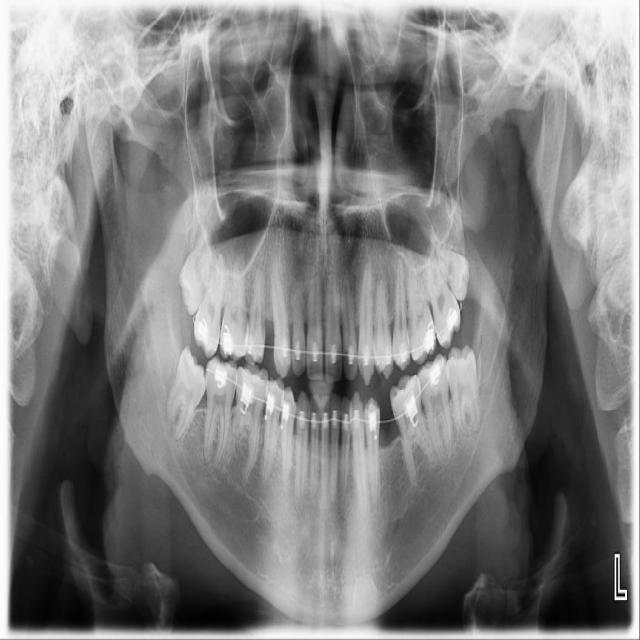3M ESPE Implant: (172, 221, 221, 317)
73: (602, 584, 610, 598)
BioHorizons Implant: (421, 246, 467, 350)
BioLife Implant: (433, 236, 481, 303)
Biomet 3i Implant: (444, 344, 483, 437)
Blue Sky Bio Implant: (415, 352, 453, 463)
Caries: (192, 253, 226, 360)
Implant: (203, 355, 238, 468)
Keystone Dental Implant: (158, 344, 216, 444)
